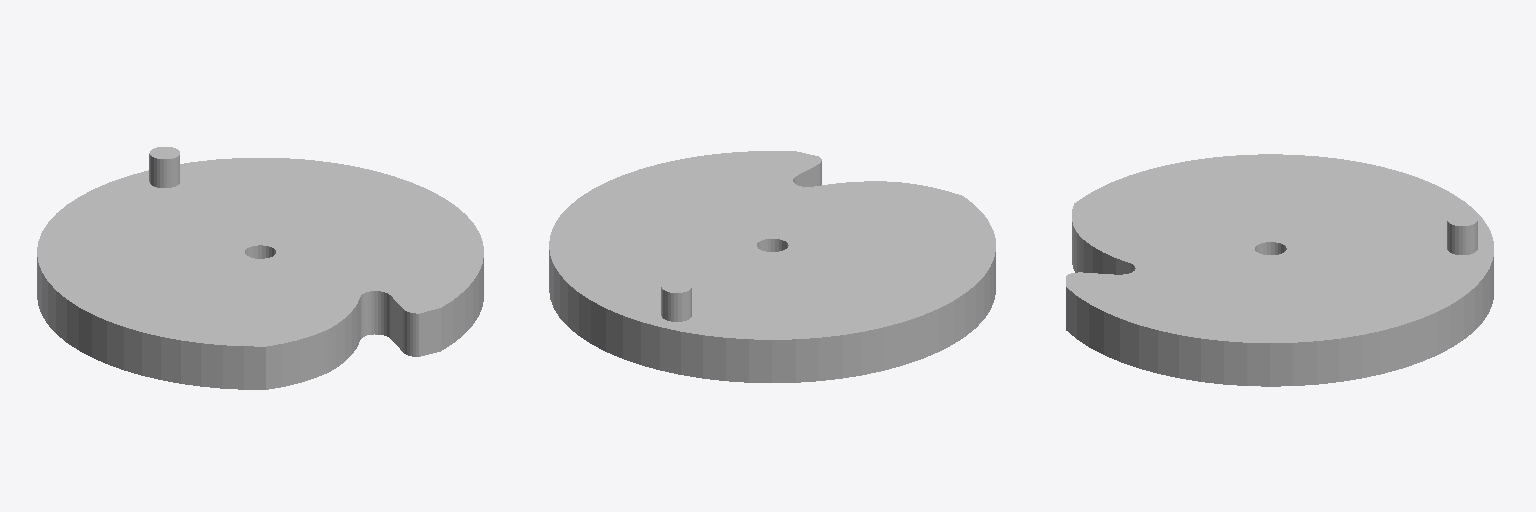
File: driveCam.obj
3 renders of one model, left to right at view 1: azimuth 30°, elevation 25°; view 2: azimuth 150°, elevation 25°; view 3: azimuth 270°, elevation 25°, orthographic.
Size of the model in its own units: 28 by 5 by 26.85.